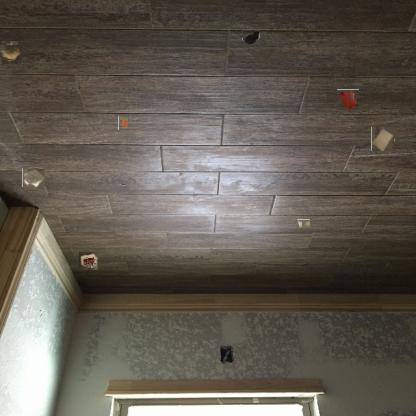dirty: (371, 128, 395, 151), (23, 167, 44, 188), (1, 43, 20, 62), (79, 252, 97, 270), (118, 116, 129, 130), (296, 219, 310, 228)
liquid: (337, 89, 359, 110), (242, 30, 260, 44)
